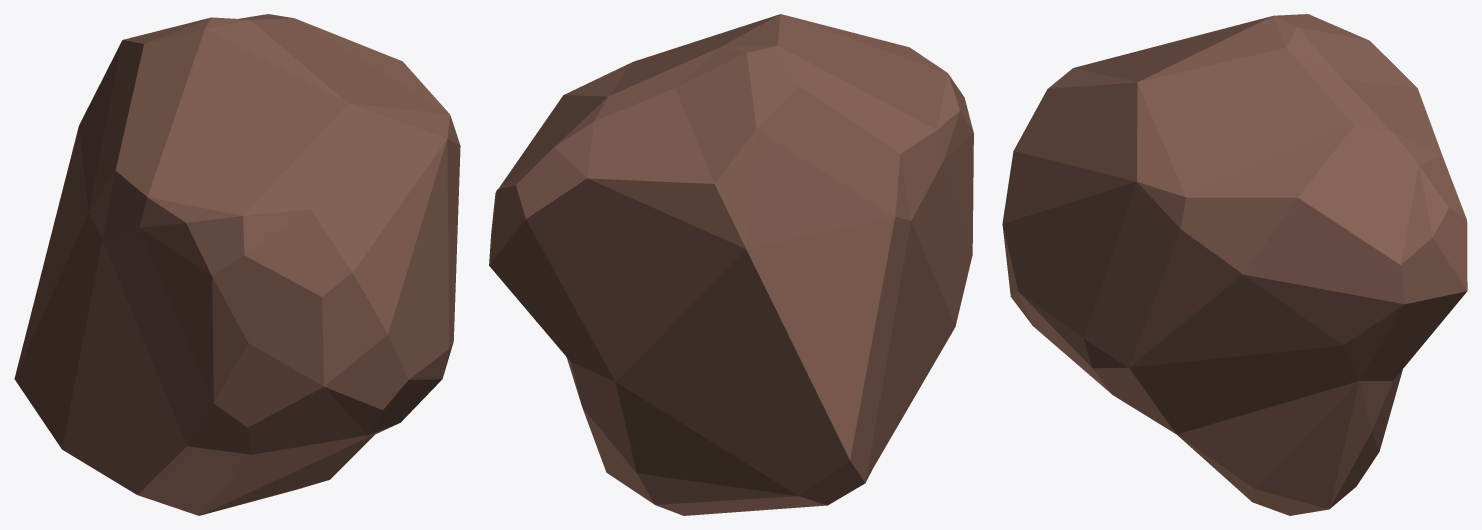
File: MonsterDenRock5.fbx
3 views of the same model, side by side, from view 1: azimuth 30°, elevation 25°; view 2: azimuth 150°, elevation 25°; view 3: azimuth 270°, elevation 25° (orthographic). The views are drawn at different scales.
Visible parts, largest first — view 1: Rock.027; view 2: Rock.027; view 3: Rock.027.
Part boxes in pixels (x1,y1,x2,y2): Rock.027: (14,14,460,515); Rock.027: (489,14,973,515); Rock.027: (1002,14,1467,515).
Bounding box in the file's own units: 201 × 261 × 241.
